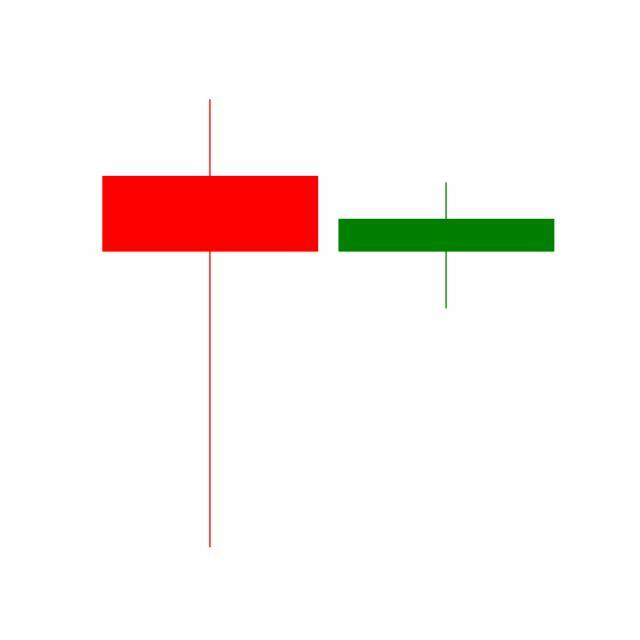Spinning Top: (328, 181, 566, 311)
